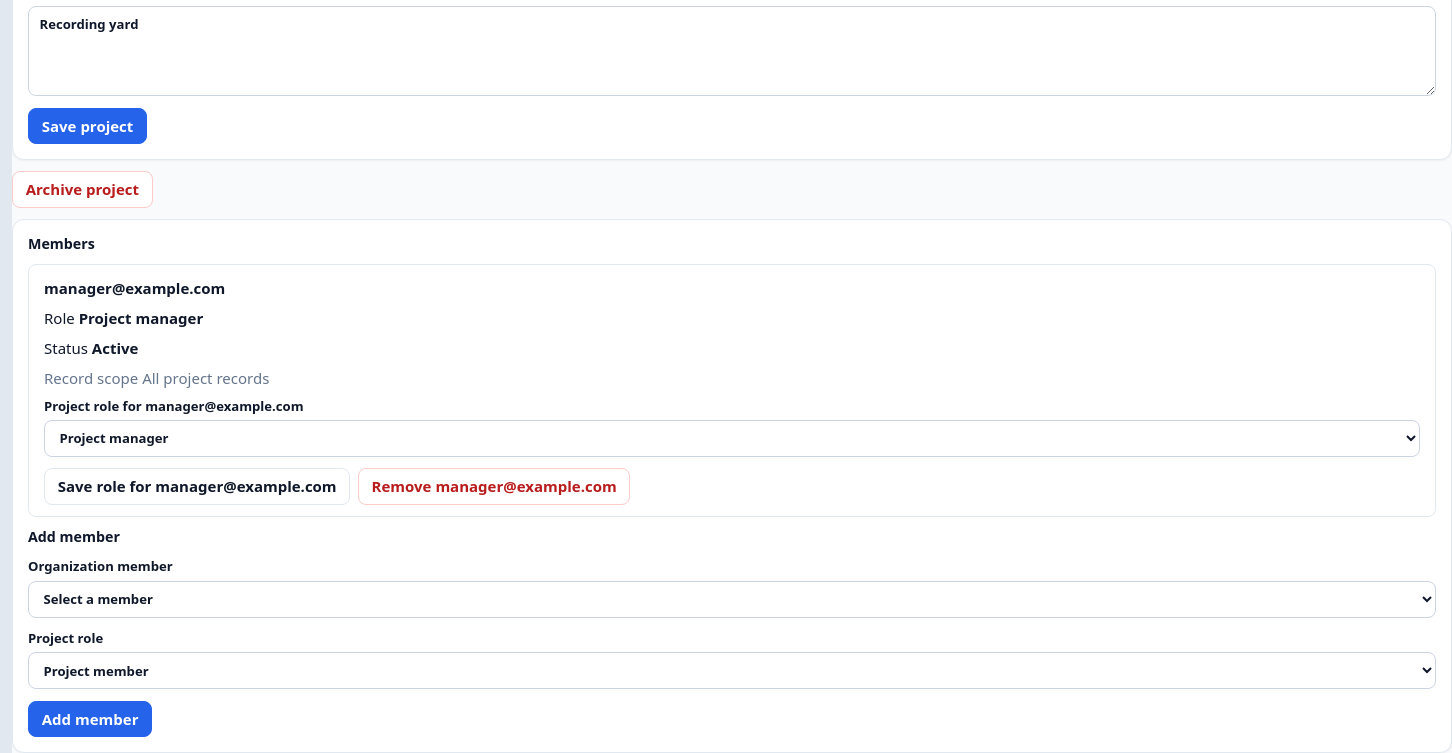
project membership screens › adds an organization member and shows the assigned role
(page scrolled)
Expected: the button "Remove manager@example.com" is shown, [358,468,630,505]
Select "member@example.com" in the dropdown labelled "Organization member" at x=732, y=599, box [28,581,1436,618]
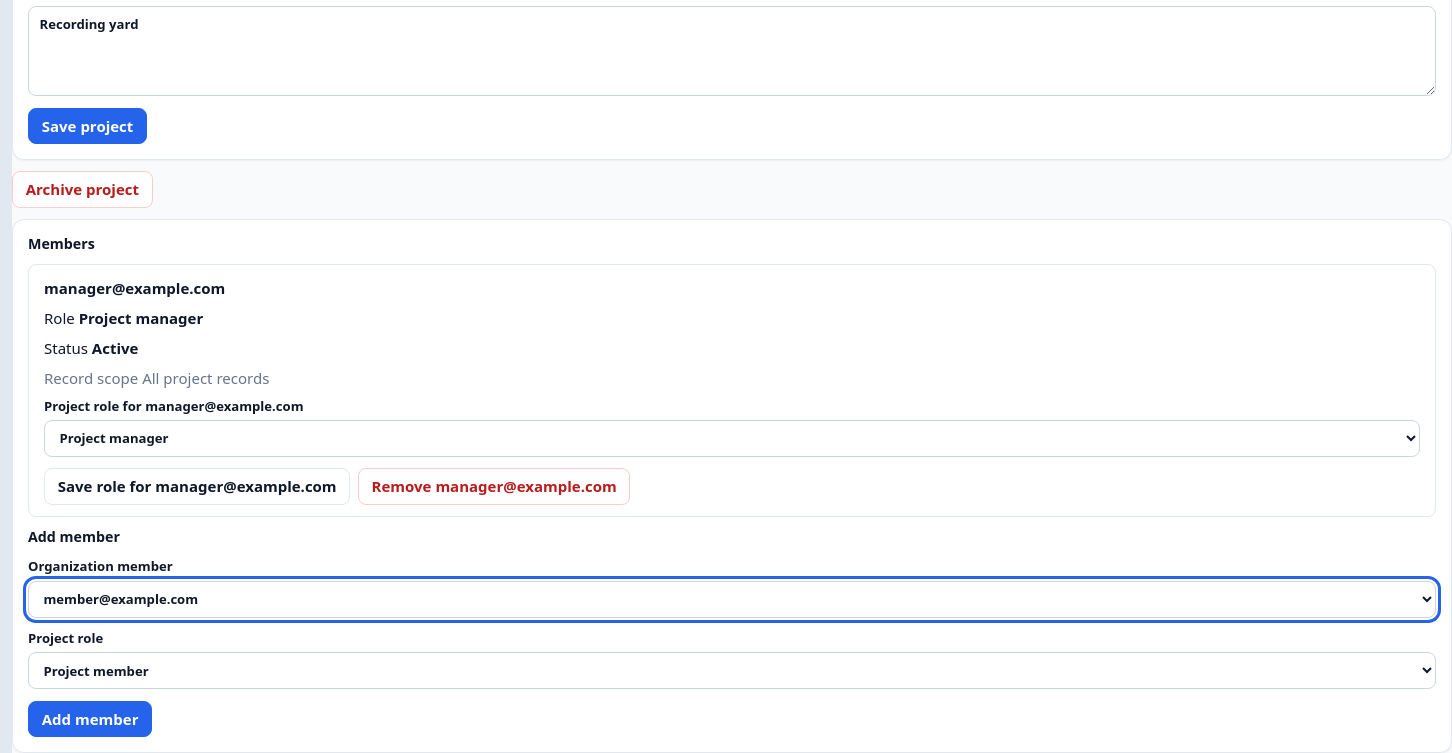
Select "Project member" in the dropdown labelled "Project role" at x=732, y=671, box [28,652,1436,689]
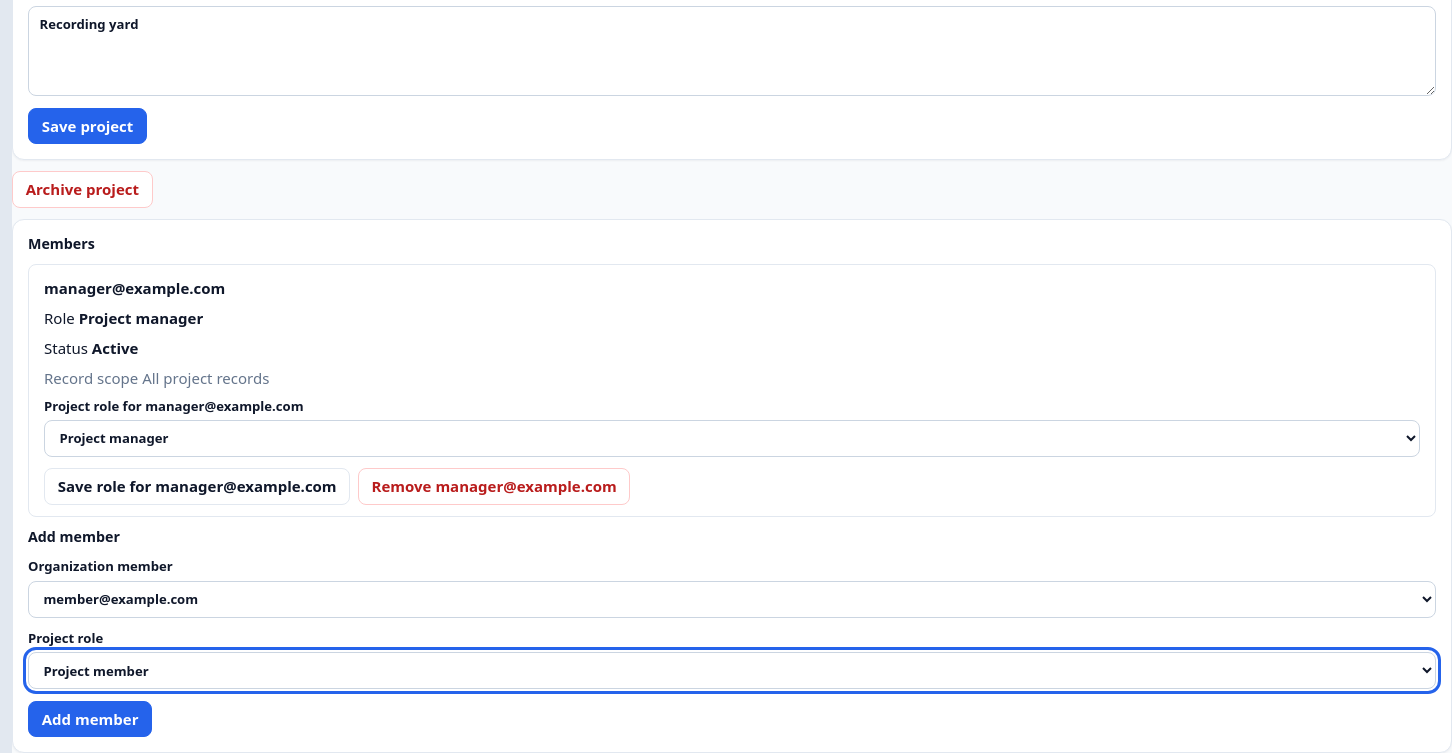
Click the button "Add member" at x=90, y=719, box [28,701,152,737]
(page scrolled)
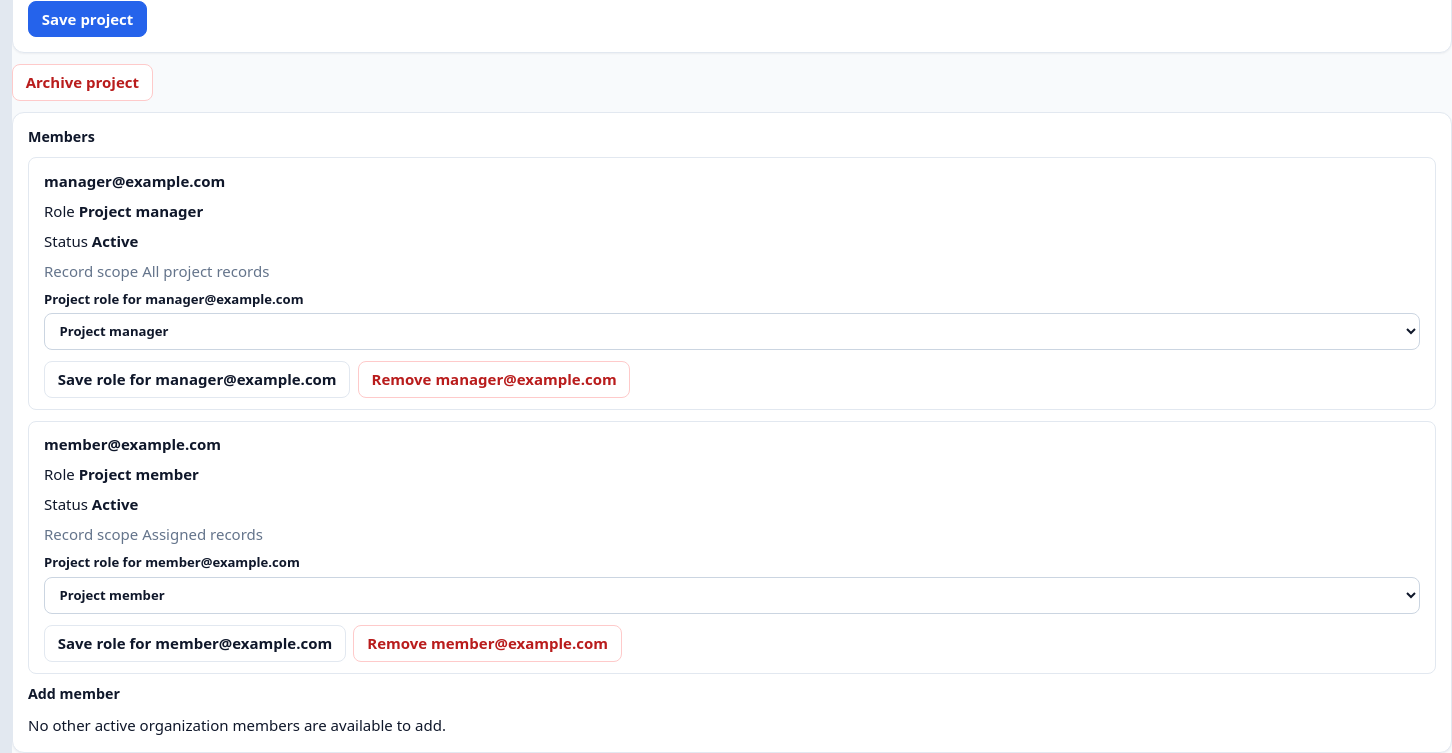
Result: the button "Remove member@example.com" is shown at [354,625,622,662]
